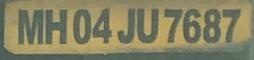character: (16, 8, 44, 44), (44, 7, 67, 45), (136, 6, 158, 45), (72, 8, 92, 45), (91, 7, 111, 44), (116, 7, 136, 43), (220, 8, 241, 42), (182, 7, 201, 44), (163, 7, 182, 43), (203, 8, 222, 43)
